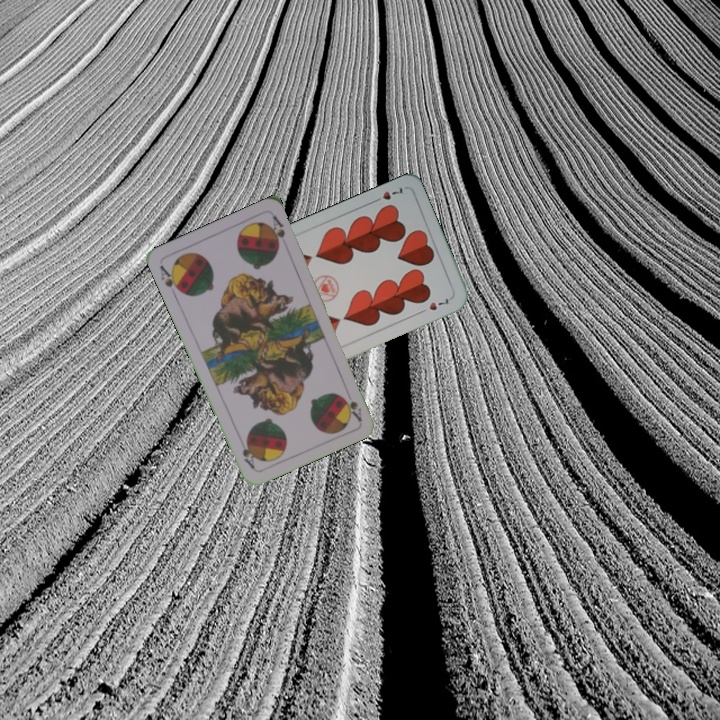H7: (368, 183, 405, 205)
SA: (155, 261, 185, 299), (341, 385, 364, 424)
